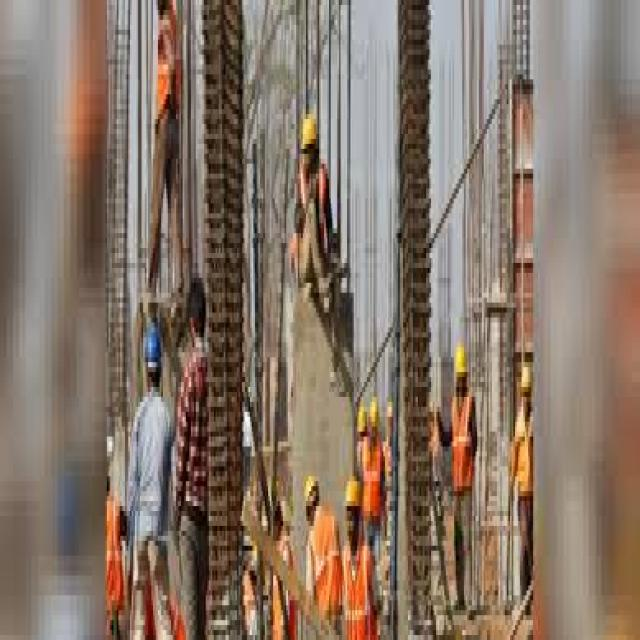Reflective-Jacket: (181, 357, 212, 501), (309, 511, 341, 630), (340, 541, 372, 640), (451, 387, 474, 496)
Safety-Helmet: (298, 99, 321, 159), (342, 471, 364, 516), (143, 323, 163, 372), (518, 357, 535, 402), (452, 337, 469, 382), (303, 466, 319, 511), (367, 392, 380, 437)
